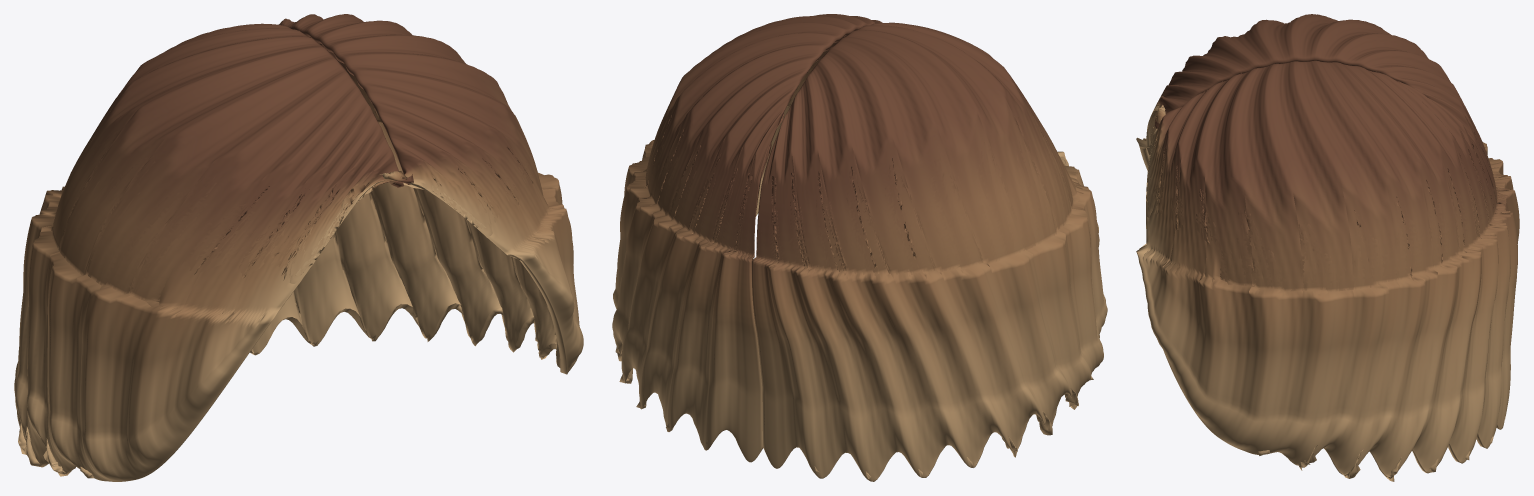
File: Ombre-3270370b013b253-hair.glb
The picture shows the model from 3 angles, left to right: view 1: azimuth 30°, elevation 25°; view 2: azimuth 150°, elevation 25°; view 3: azimuth 270°, elevation 25°; orthographic projection. The views are drawn at different scales.
Parts seen in each view (by area): view 1: 226 hair / Hair252 / flowing sculpt flow.001; view 2: 226 hair / Hair252 / flowing sculpt flow.001; view 3: 226 hair / Hair252 / flowing sculpt flow.001.
Part boxes in pixels (bbox=[...]): 226 hair / Hair252 / flowing sculpt flow.001: bbox=[14, 14, 583, 481]; 226 hair / Hair252 / flowing sculpt flow.001: bbox=[612, 14, 1107, 481]; 226 hair / Hair252 / flowing sculpt flow.001: bbox=[1136, 14, 1519, 481].
Bounding box in the file's own units: 1.11 × 0.8603 × 0.8343.
1 material, 1 textured.
